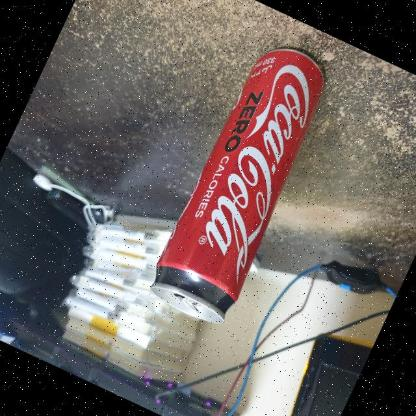Can: (136, 28, 346, 338)
